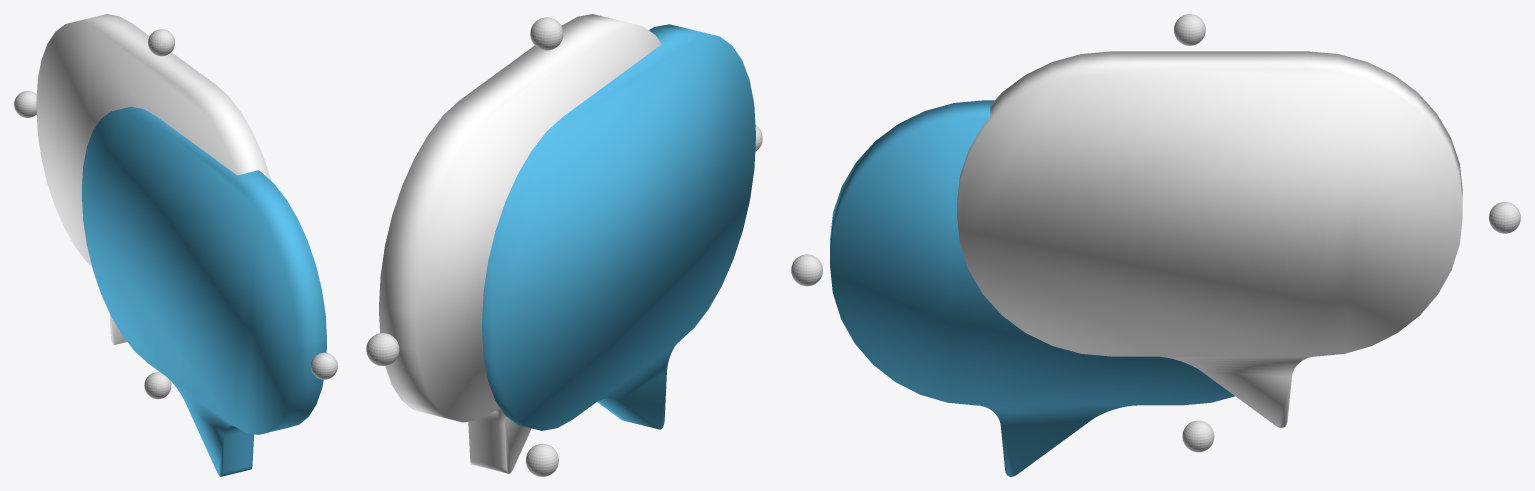
Rendered from message.glb.
3 views of the same model, side by side, from view 1: azimuth 30°, elevation 25°; view 2: azimuth 150°, elevation 25°; view 3: azimuth 270°, elevation 25° (orthographic). The views are drawn at different scales.
Parts seen in each view (by area): view 1: bubble/color, bubble/glass, anchorPoint/N.001, anchorPoint/W.001, anchorPoint/Z.001, anchorPoint/O.001; view 2: bubble/color, bubble/glass, anchorPoint/N.001, anchorPoint/O.001, anchorPoint/Z.001; view 3: bubble/glass, bubble/color, anchorPoint/W.001, anchorPoint/Z.001, anchorPoint/O.001, anchorPoint/N.001.
Boxes of the visible parts, x1,y1,x2,y2 form: bubble/color: (82,106,326,476); bubble/glass: (36,14,271,344); anchorPoint/N.001: (148,29,174,56); anchorPoint/W.001: (310,352,337,379); anchorPoint/Z.001: (144,372,171,399); anchorPoint/O.001: (14,91,36,117); bubble/color: (482,24,755,430); bubble/glass: (379,14,661,473); anchorPoint/N.001: (530,17,563,50); anchorPoint/O.001: (366,333,399,365); anchorPoint/Z.001: (526,443,558,476); bubble/glass: (957,51,1462,427); bubble/color: (830,100,1234,476); anchorPoint/W.001: (791,254,822,286); anchorPoint/Z.001: (1182,420,1214,452); anchorPoint/O.001: (1489,202,1520,233); anchorPoint/N.001: (1174,14,1205,45).
Bounding box in the file's own units: 0.1316 × 1.25 × 1.83.
